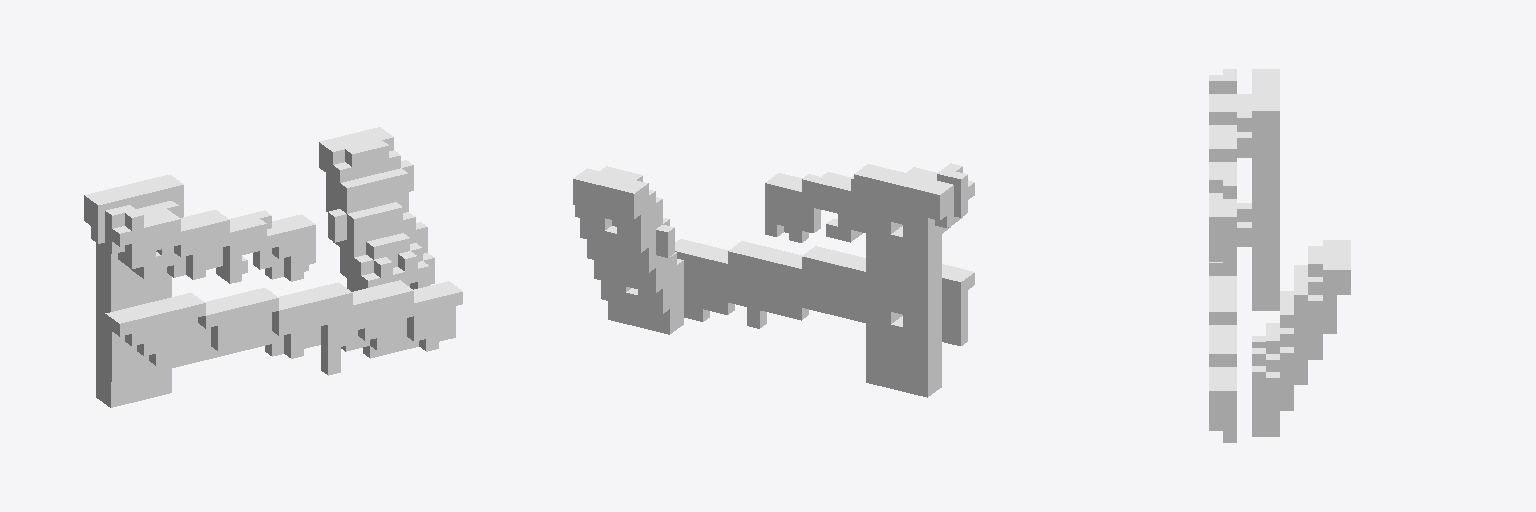
Rendered from Smol-BrokenFence.obj.
3 renders of one model, left to right at view 1: azimuth 30°, elevation 25°; view 2: azimuth 150°, elevation 25°; view 3: azimuth 270°, elevation 25°, orthographic.
Parts seen in each view (by area): view 1: object 1; view 2: object 1; view 3: object 1.
Boxes of the visible parts, x1=… form: object 1: x1=84, y1=127, x2=462, y2=407; object 1: x1=573, y1=163, x2=974, y2=397; object 1: x1=1209, y1=69, x2=1350, y2=442.
Bounding box in the file's own units: 2.8 × 1.6 × 1.